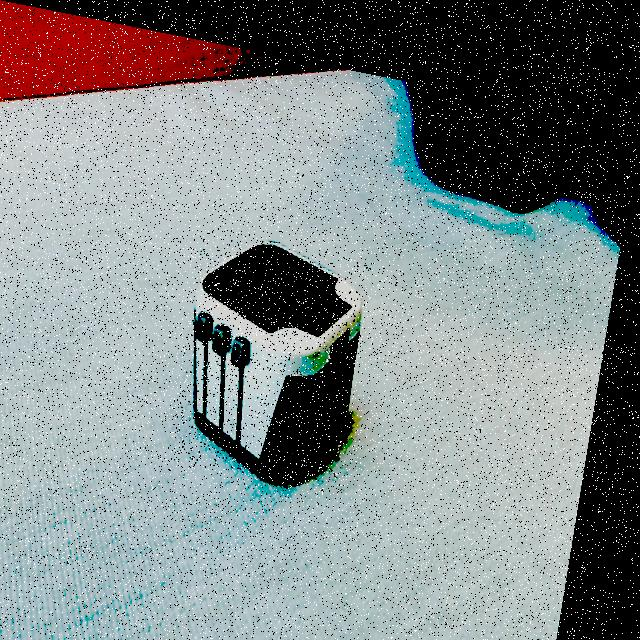adapter: (181, 216, 379, 479)
